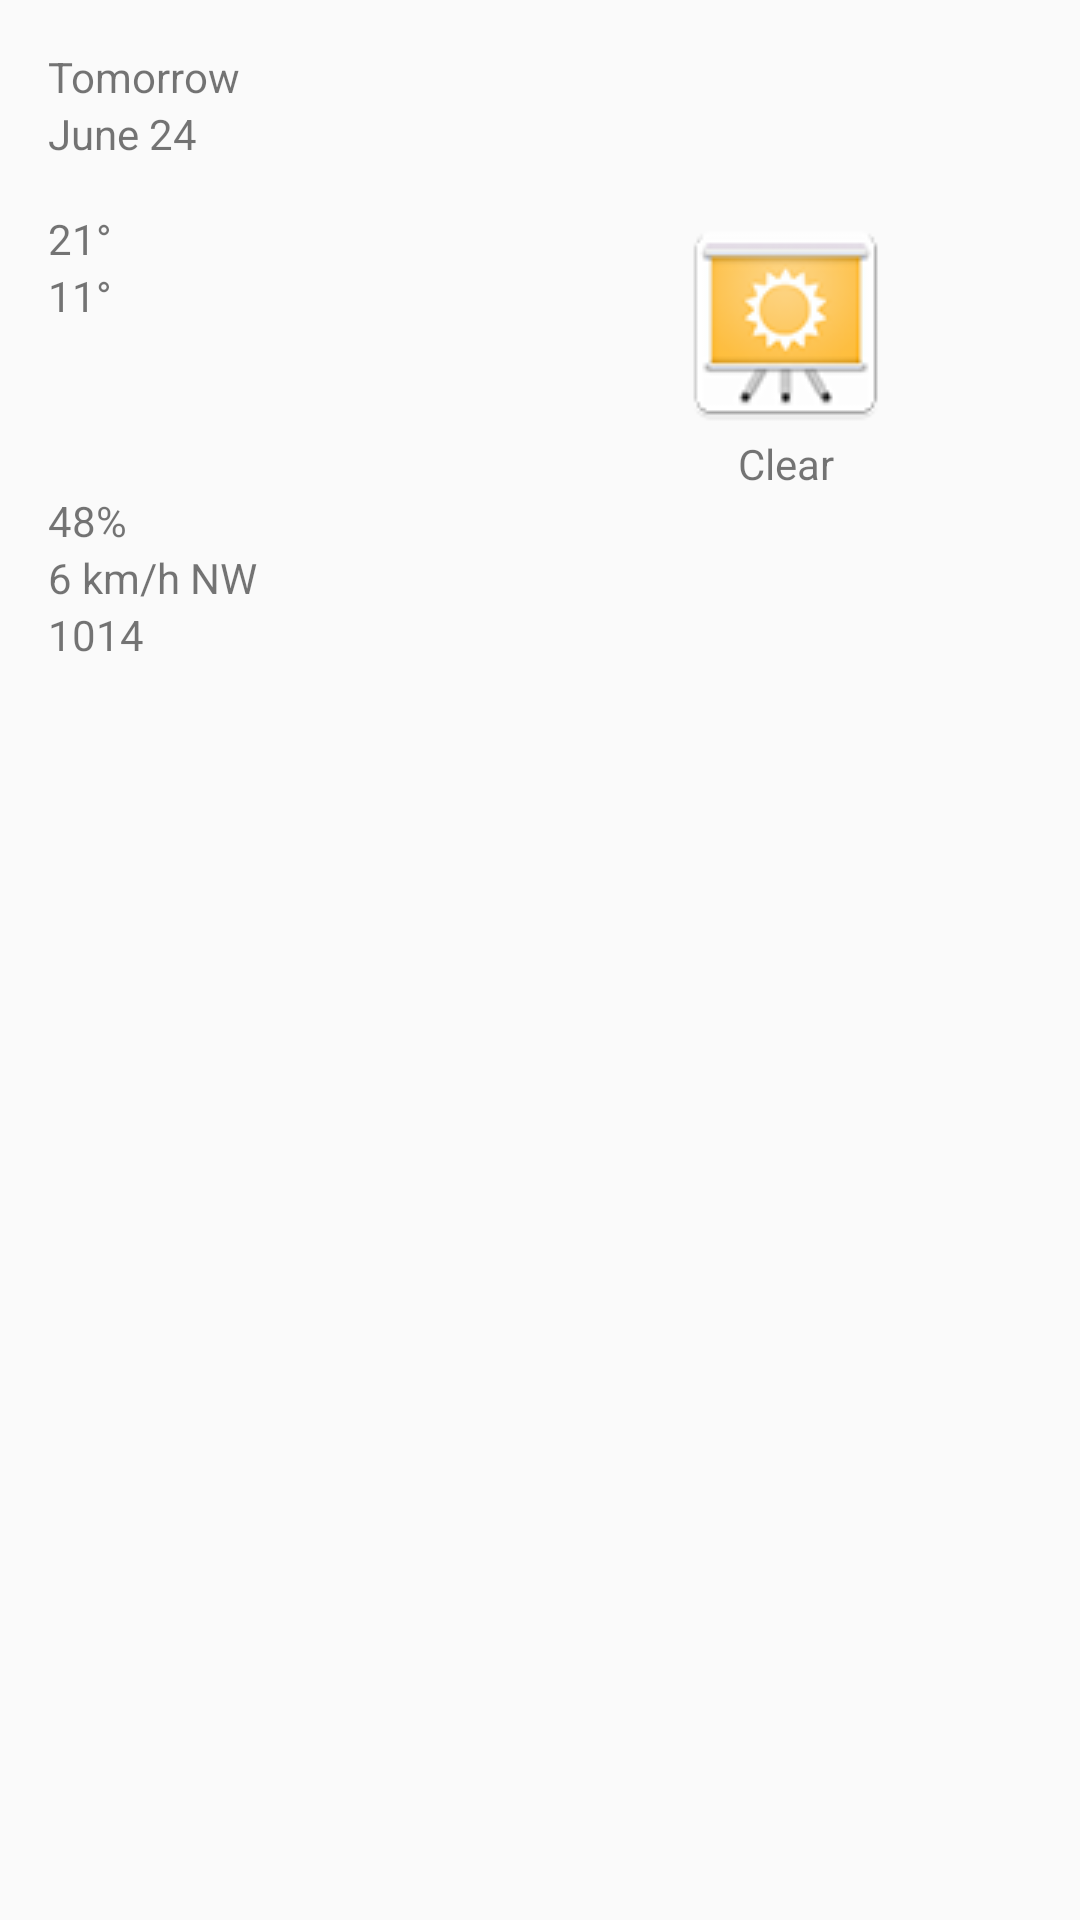

Locate icon controls on the screen. Image size 1080x1920, boxes as rect(x1, y1, x2, y2).
weather future: rect(694, 238, 878, 415)
